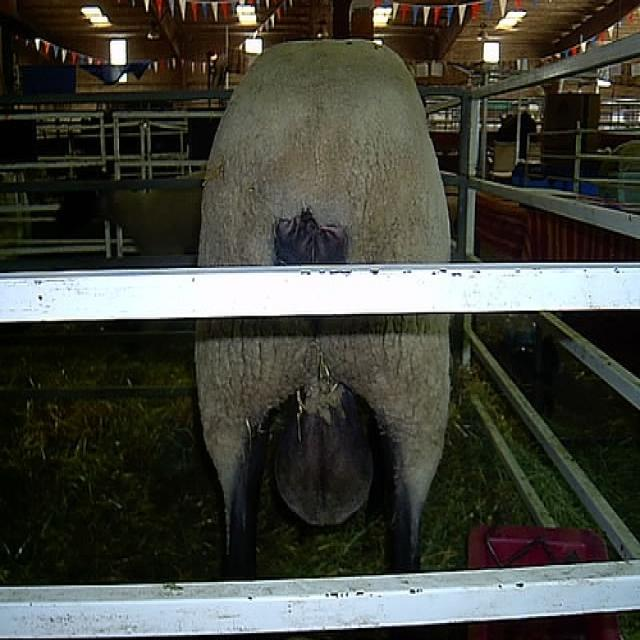sheep: (196, 37, 454, 583)
